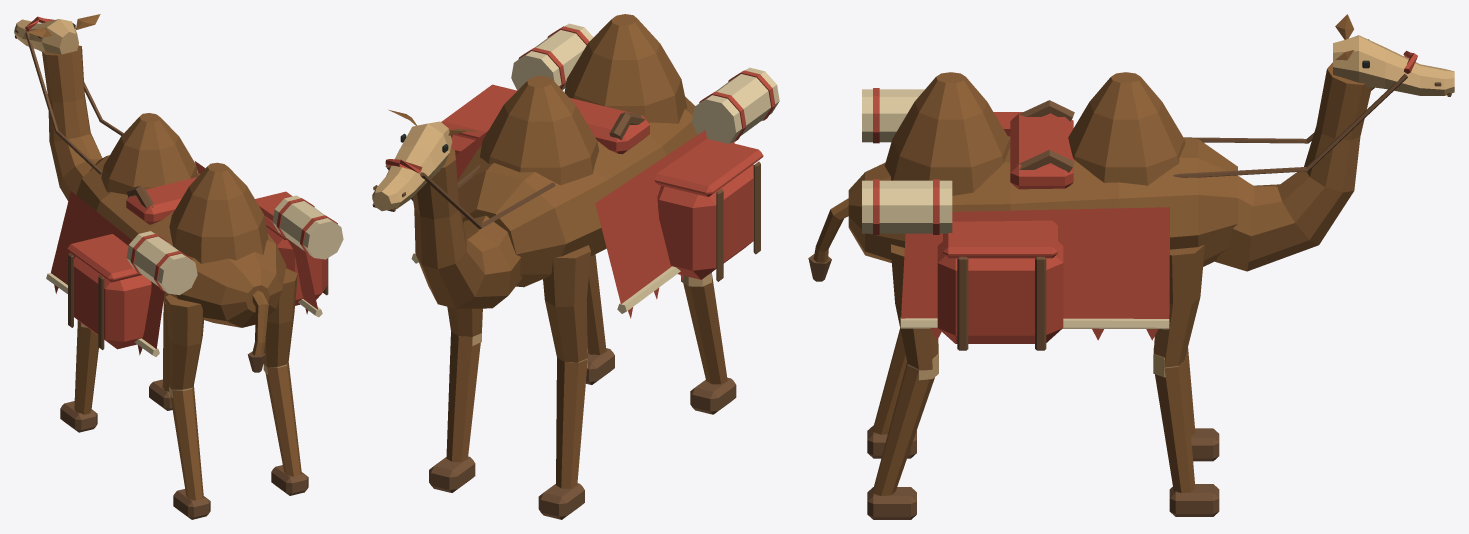
File: camel.glb
3 views of the same model, side by side, from view 1: azimuth 30°, elevation 25°; view 2: azimuth 150°, elevation 25°; view 3: azimuth 270°, elevation 25° (orthographic). The views are drawn at different scales.
Visible parts, largest first — view 1: camel_sand, player_accent, leg_back_left, canvas_cargo, leg_back_right, leather_wood, leg_front_left, camel_highlight, leg_front_right; view 2: camel_sand, player_accent, leg_front_left, canvas_cargo, leg_front_right, leg_back_left, camel_highlight, leather_wood, leg_back_right; view 3: camel_sand, player_accent, leg_front_right, canvas_cargo, leg_back_right, leather_wood, camel_highlight, leg_back_left, leg_front_left.
Boxes of the visible parts, left/top/right/bottom form: camel_sand: left=27, top=14, right=286, bottom=355; player_accent: left=25, top=16, right=337, bottom=355; leg_back_left: left=165, top=294, right=210, bottom=519; canvas_cargo: left=46, top=195, right=343, bottom=356; leg_back_right: left=263, top=268, right=308, bottom=495; leather_wood: left=15, top=23, right=328, bottom=372; leg_front_left: left=60, top=320, right=98, bottom=432; camel_highlight: left=14, top=19, right=78, bottom=54; leg_front_right: left=149, top=302, right=172, bottom=410; camel_sand: left=388, top=14, right=697, bottom=308; player_accent: left=385, top=26, right=775, bottom=318; leg_front_left: left=538, top=245, right=590, bottom=519; canvas_cargo: left=411, top=23, right=779, bottom=313; leg_front_right: left=429, top=306, right=482, bottom=492; leg_back_left: left=681, top=272, right=736, bottom=414; camel_highlight: left=372, top=121, right=452, bottom=211; leather_wood: left=372, top=112, right=760, bottom=281; leg_back_right: left=586, top=254, right=614, bottom=384; camel_sand: left=813, top=14, right=1371, bottom=271; player_accent: left=873, top=50, right=1417, bottom=343; leg_front_right: left=1153, top=244, right=1219, bottom=516; canvas_cargo: left=862, top=89, right=1169, bottom=329; leg_back_right: left=867, top=244, right=938, bottom=519; leather_wood: left=808, top=74, right=1451, bottom=350; camel_highlight: left=1333, top=35, right=1454, bottom=95; leg_back_left: left=867, top=328, right=916, bottom=458; leg_front_left: left=1184, top=348, right=1219, bottom=461.
Bounding box in the file's own units: 0.511 × 0.75 × 0.979.
